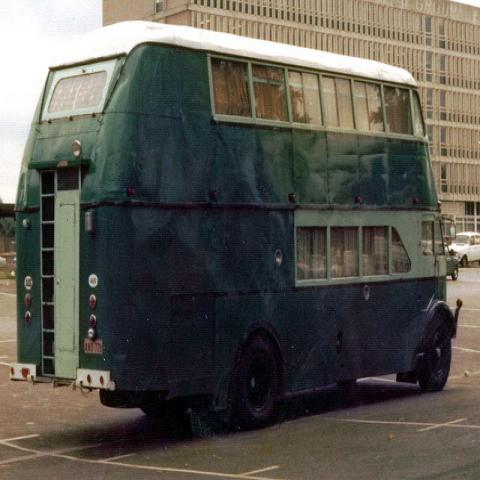bus: (6, 22, 463, 423)
car: (449, 230, 479, 269), (444, 239, 460, 282)
